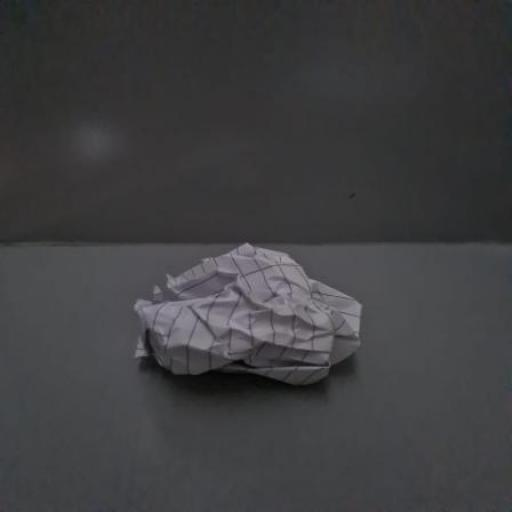paper: (101, 221, 389, 416)
